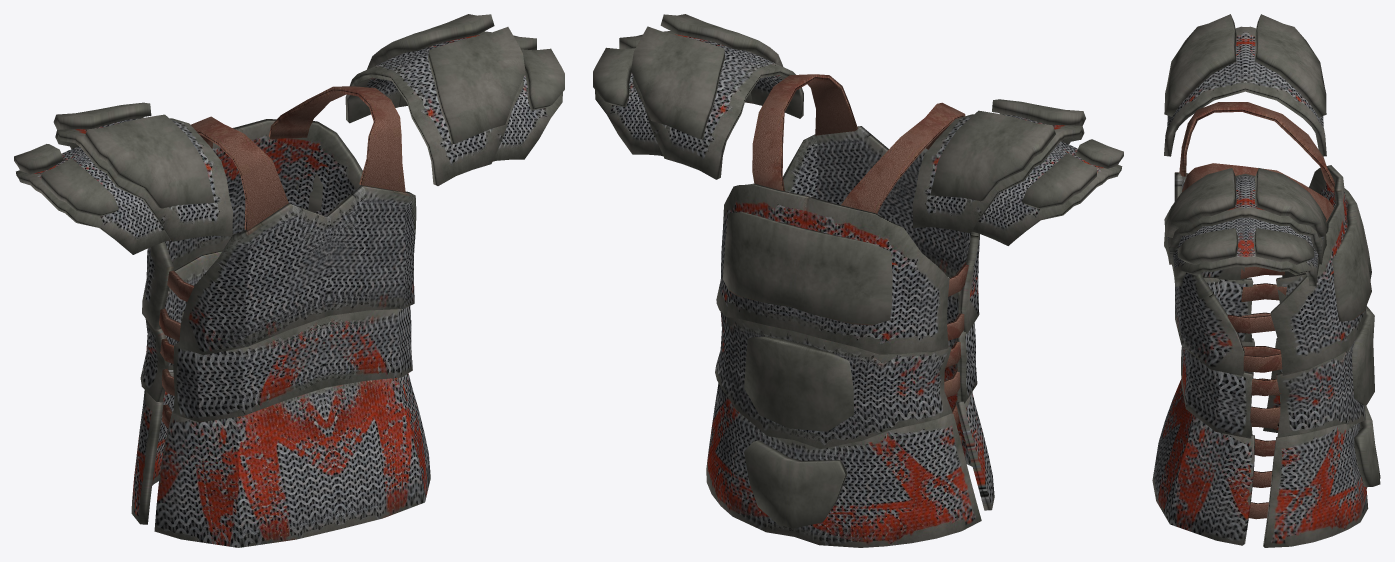
Rendered from plate_mail.glb.
3 views of the same model, side by side, from view 1: azimuth 30°, elevation 25°; view 2: azimuth 150°, elevation 25°; view 3: azimuth 270°, elevation 25° (orthographic). The views are drawn at different scales.
Parts seen in each view (by area): view 1: plate_mail; view 2: plate_mail; view 3: plate_mail.
Boxes of the visible parts, left/top/right/bottom form: plate_mail: left=14, top=14, right=564, bottom=547; plate_mail: left=593, top=14, right=1123, bottom=547; plate_mail: left=1152, top=14, right=1380, bottom=547.
Size of the model in its own units: 0.6906 by 0.5658 by 0.2991.
1 material, 1 textured.
